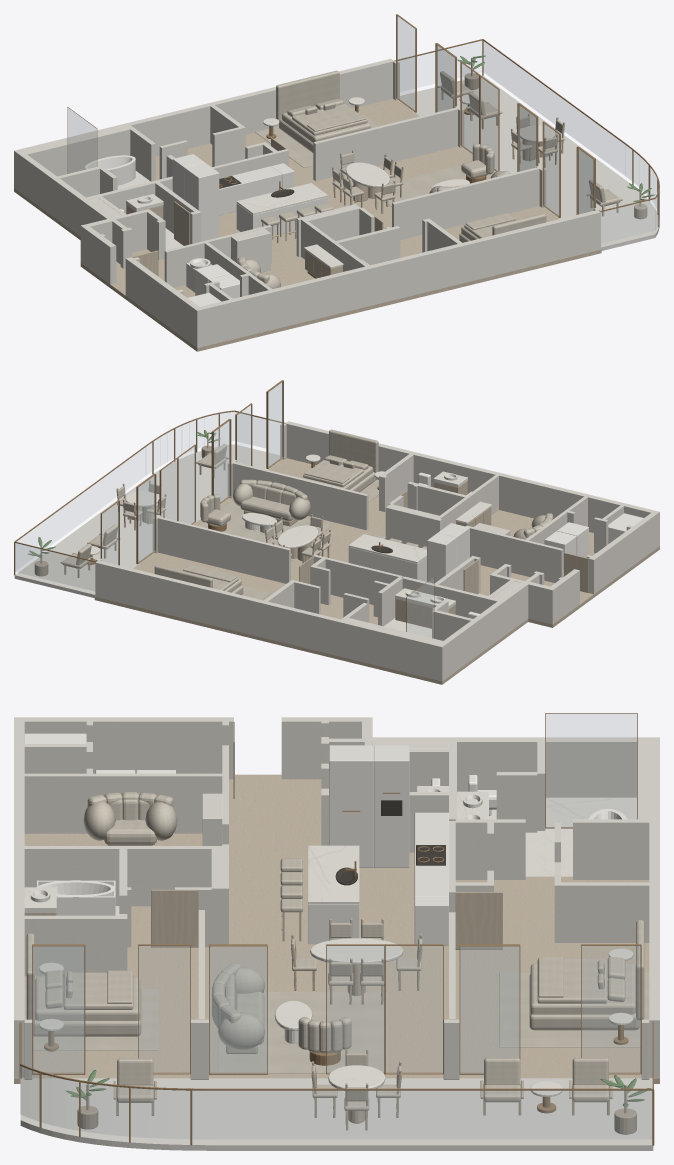
3 views of the same model, one above another, from view 1: azimuth 30°, elevation 25°; view 2: azimuth 150°, elevation 25°; view 3: azimuth 270°, elevation 25° (orthographic). The views are drawn at different scales.
Size of the model in its own units: 16.91 by 2.94 by 12.45.
Materials: 15 (6 with a texture image).
